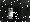person: (6, 9, 13, 20)
